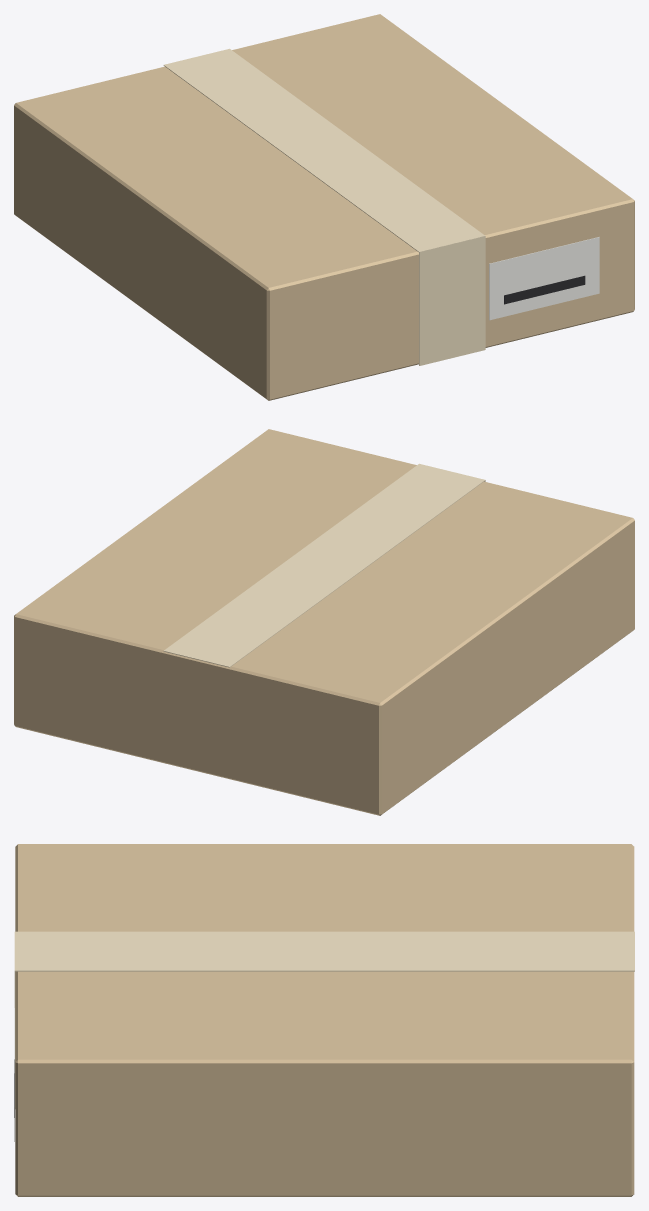
File: crate_2u.fbx
The picture shows the model from 3 angles, top to bottom: view 1: azimuth 30°, elevation 25°; view 2: azimuth 150°, elevation 25°; view 3: azimuth 270°, elevation 25°; orthographic projection. The views are drawn at different scales.
Parts seen in each view (by area): view 1: Carton; view 2: Carton; view 3: Carton.
Boxes of the visible parts, x1,y1,x2,y2 form: Carton: (14, 14, 634, 400); Carton: (14, 429, 634, 815); Carton: (14, 844, 634, 1196).
Bounding box in the file's own units: 0.75 × 0.2222 × 0.9031.
